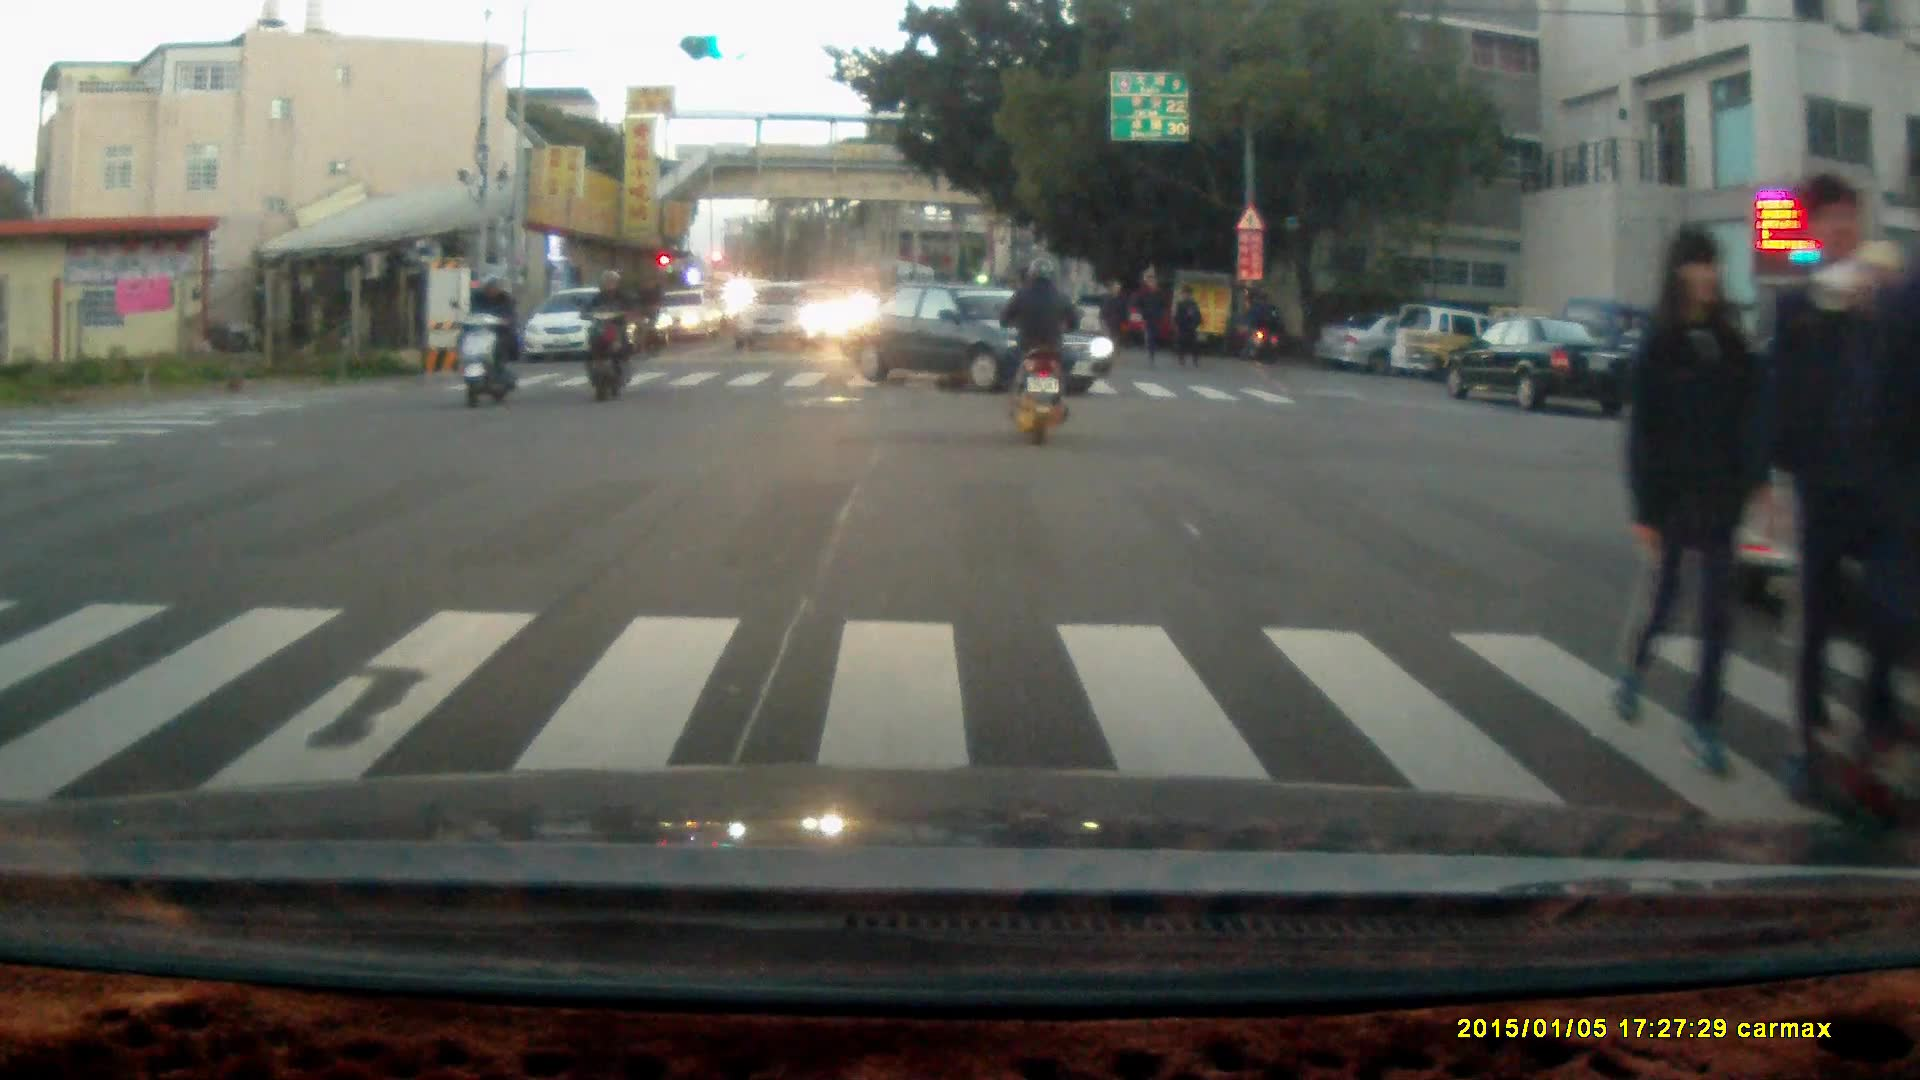pedestrian: (1610, 219, 1764, 778), (1770, 175, 1893, 806), (1846, 219, 1920, 779), (1133, 272, 1167, 368), (1170, 282, 1203, 373), (1097, 279, 1127, 361), (1249, 288, 1280, 365)
rider: (993, 253, 1079, 448), (574, 264, 641, 402), (456, 266, 521, 407)
vehicle: (831, 276, 1115, 399), (1452, 315, 1633, 412), (1316, 310, 1493, 377), (526, 289, 643, 368), (739, 283, 827, 358)
